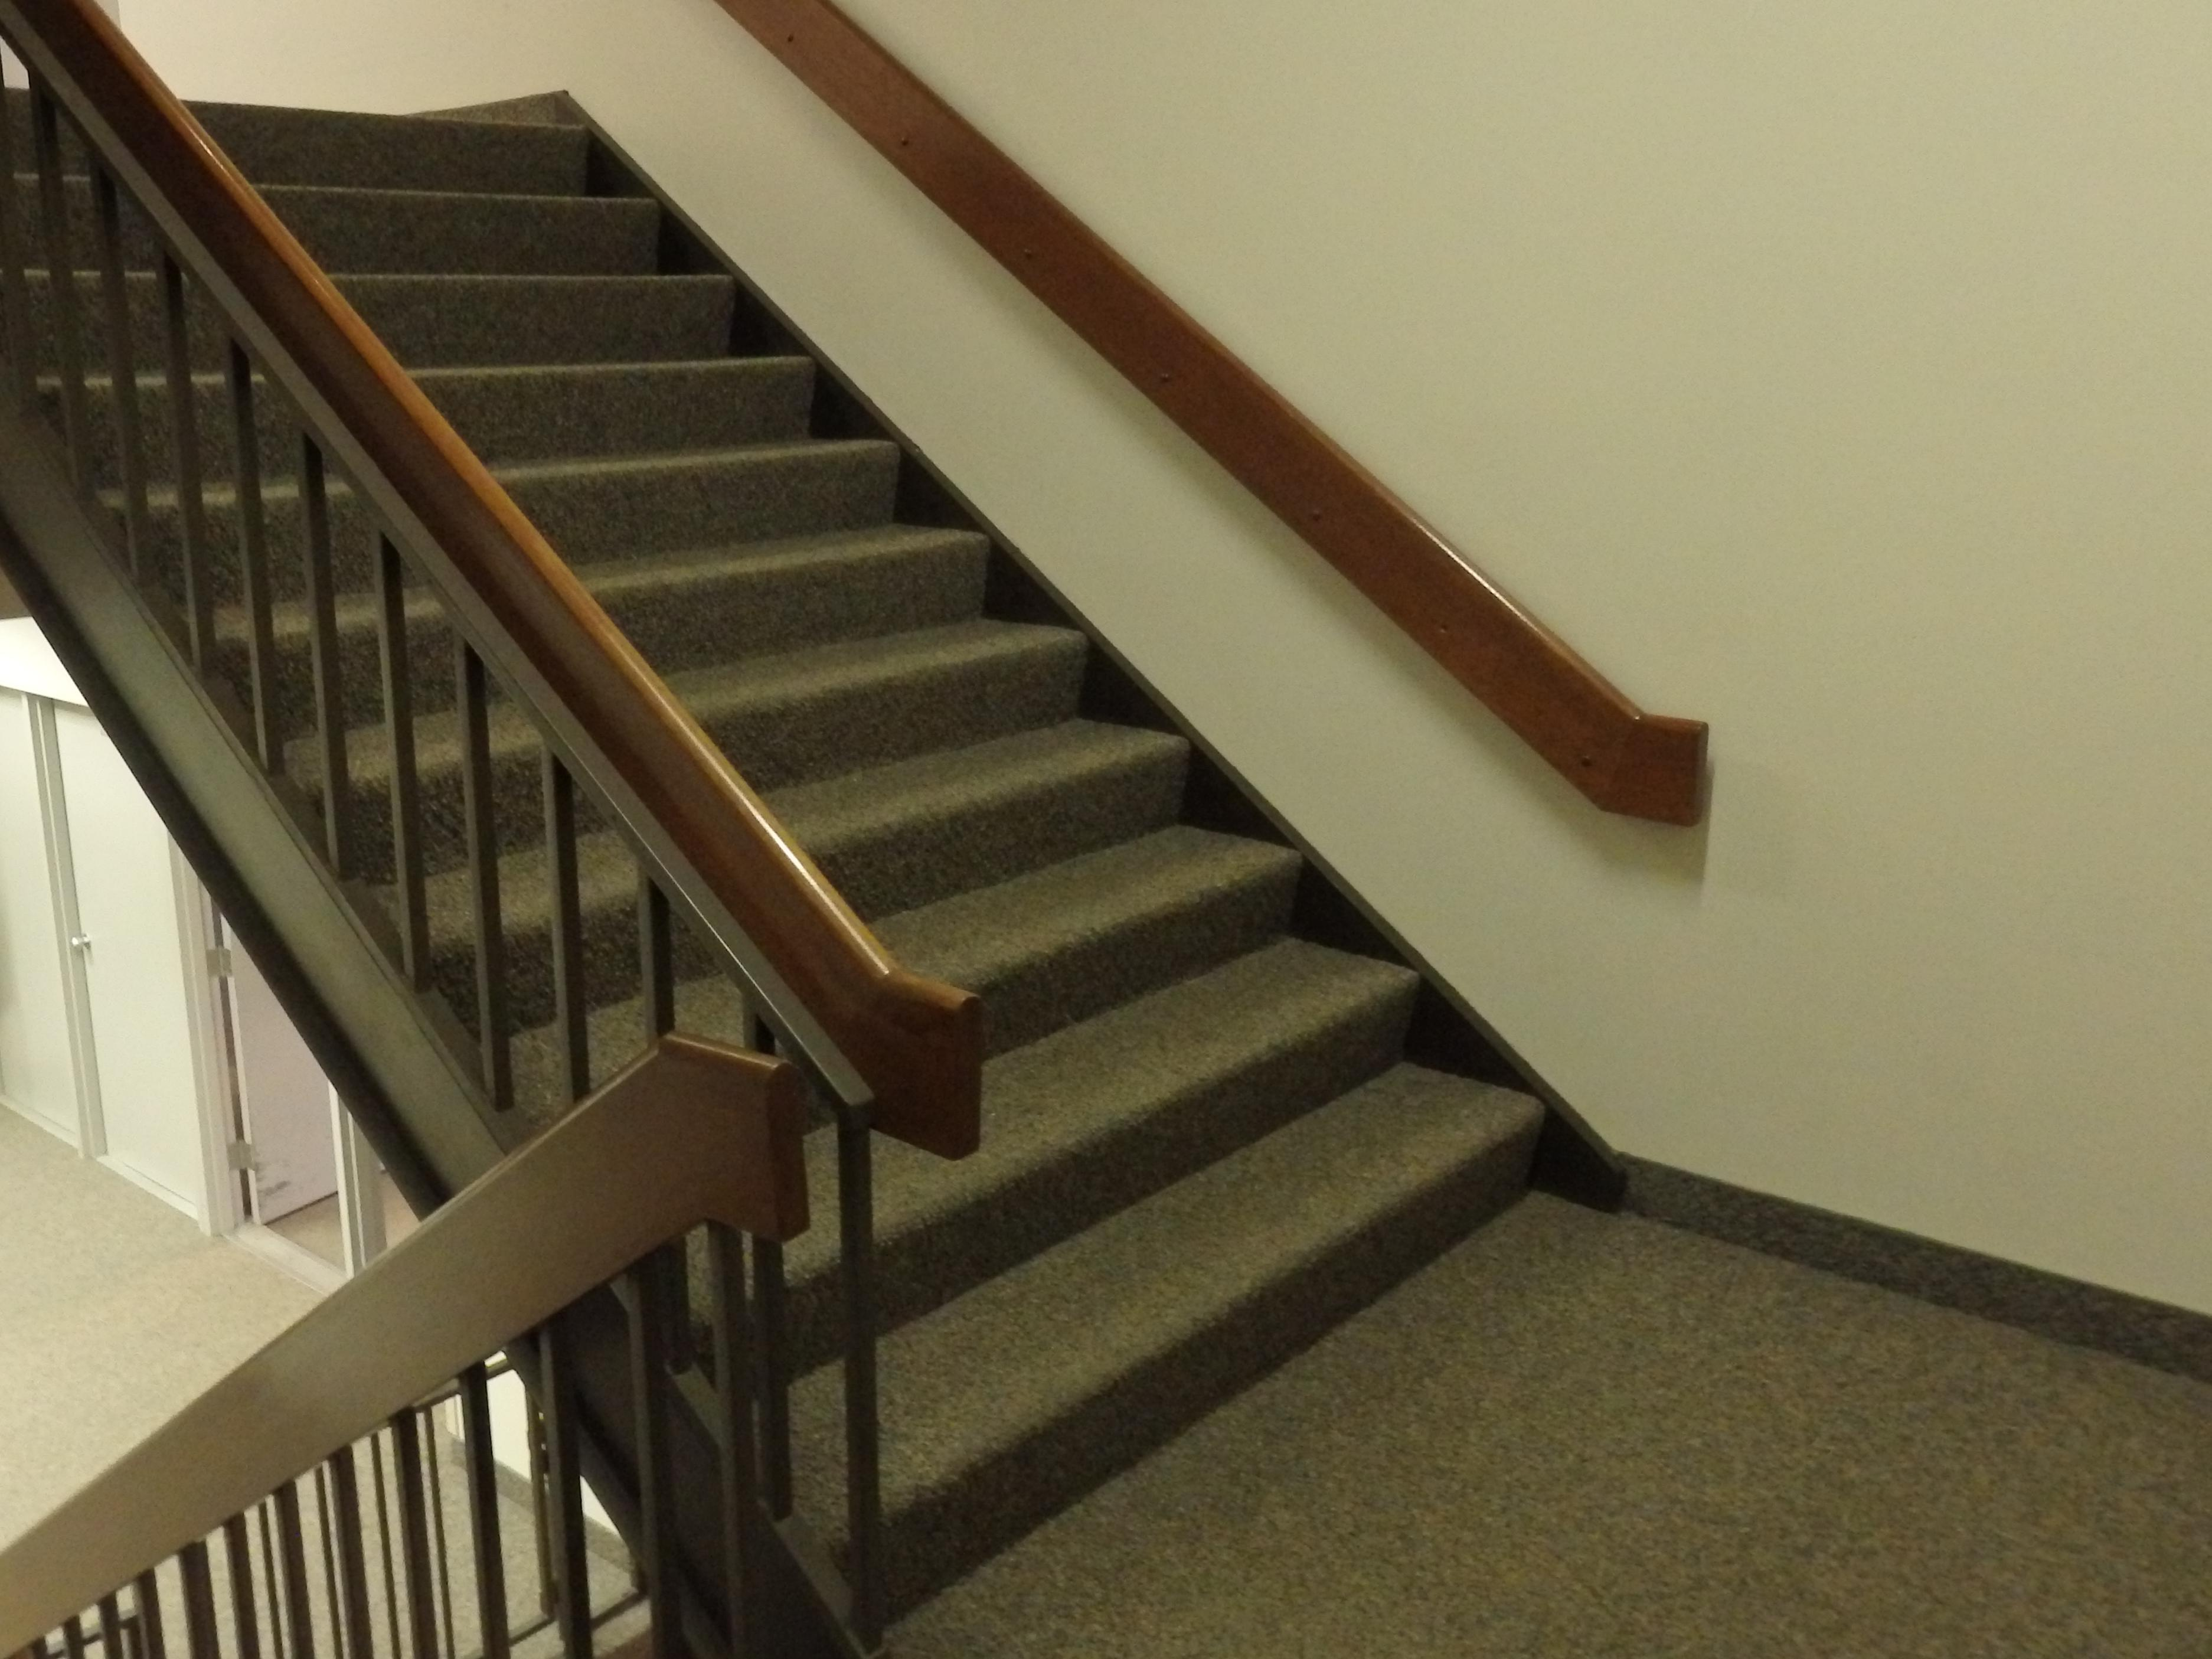stairs_up: (17, 51, 1573, 1417)
